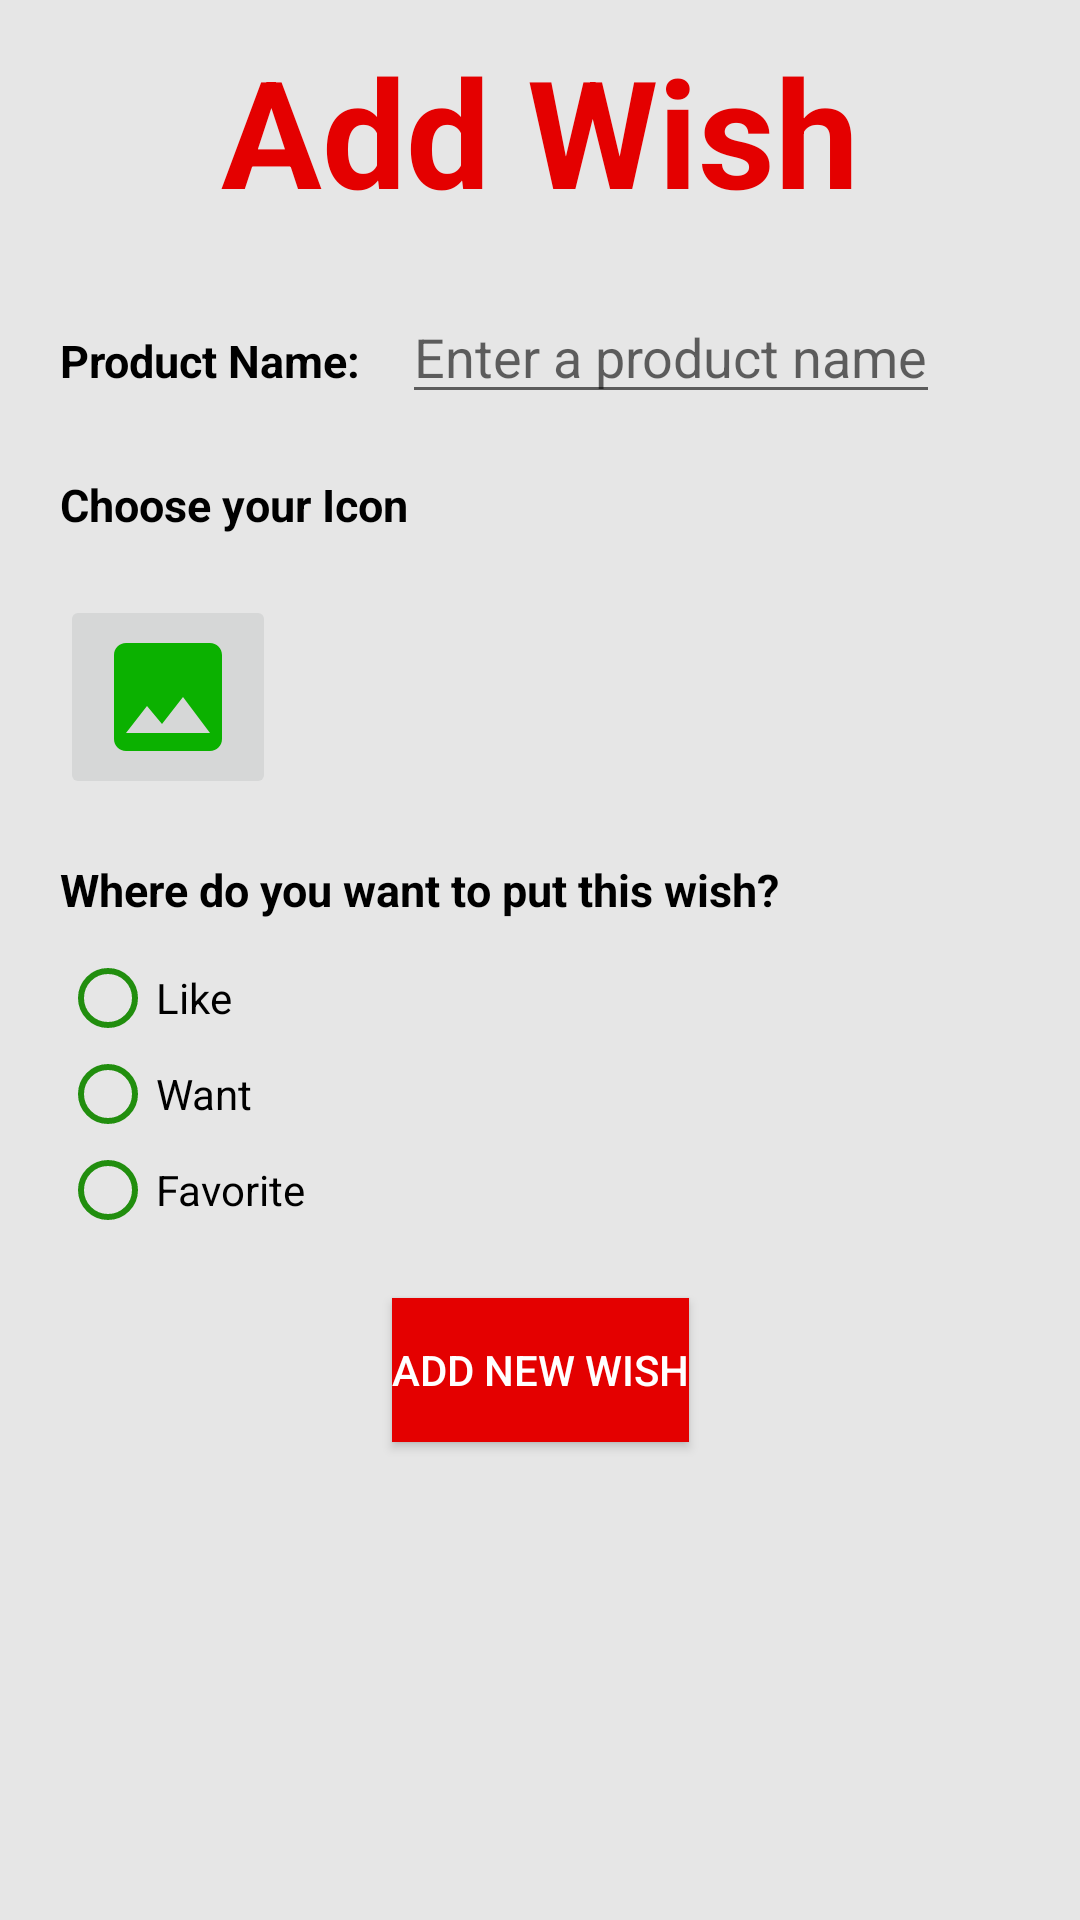

Where to tap for icons on this 1080px x 1920px app screen, as point (x, y):
photo: point (168, 697)
